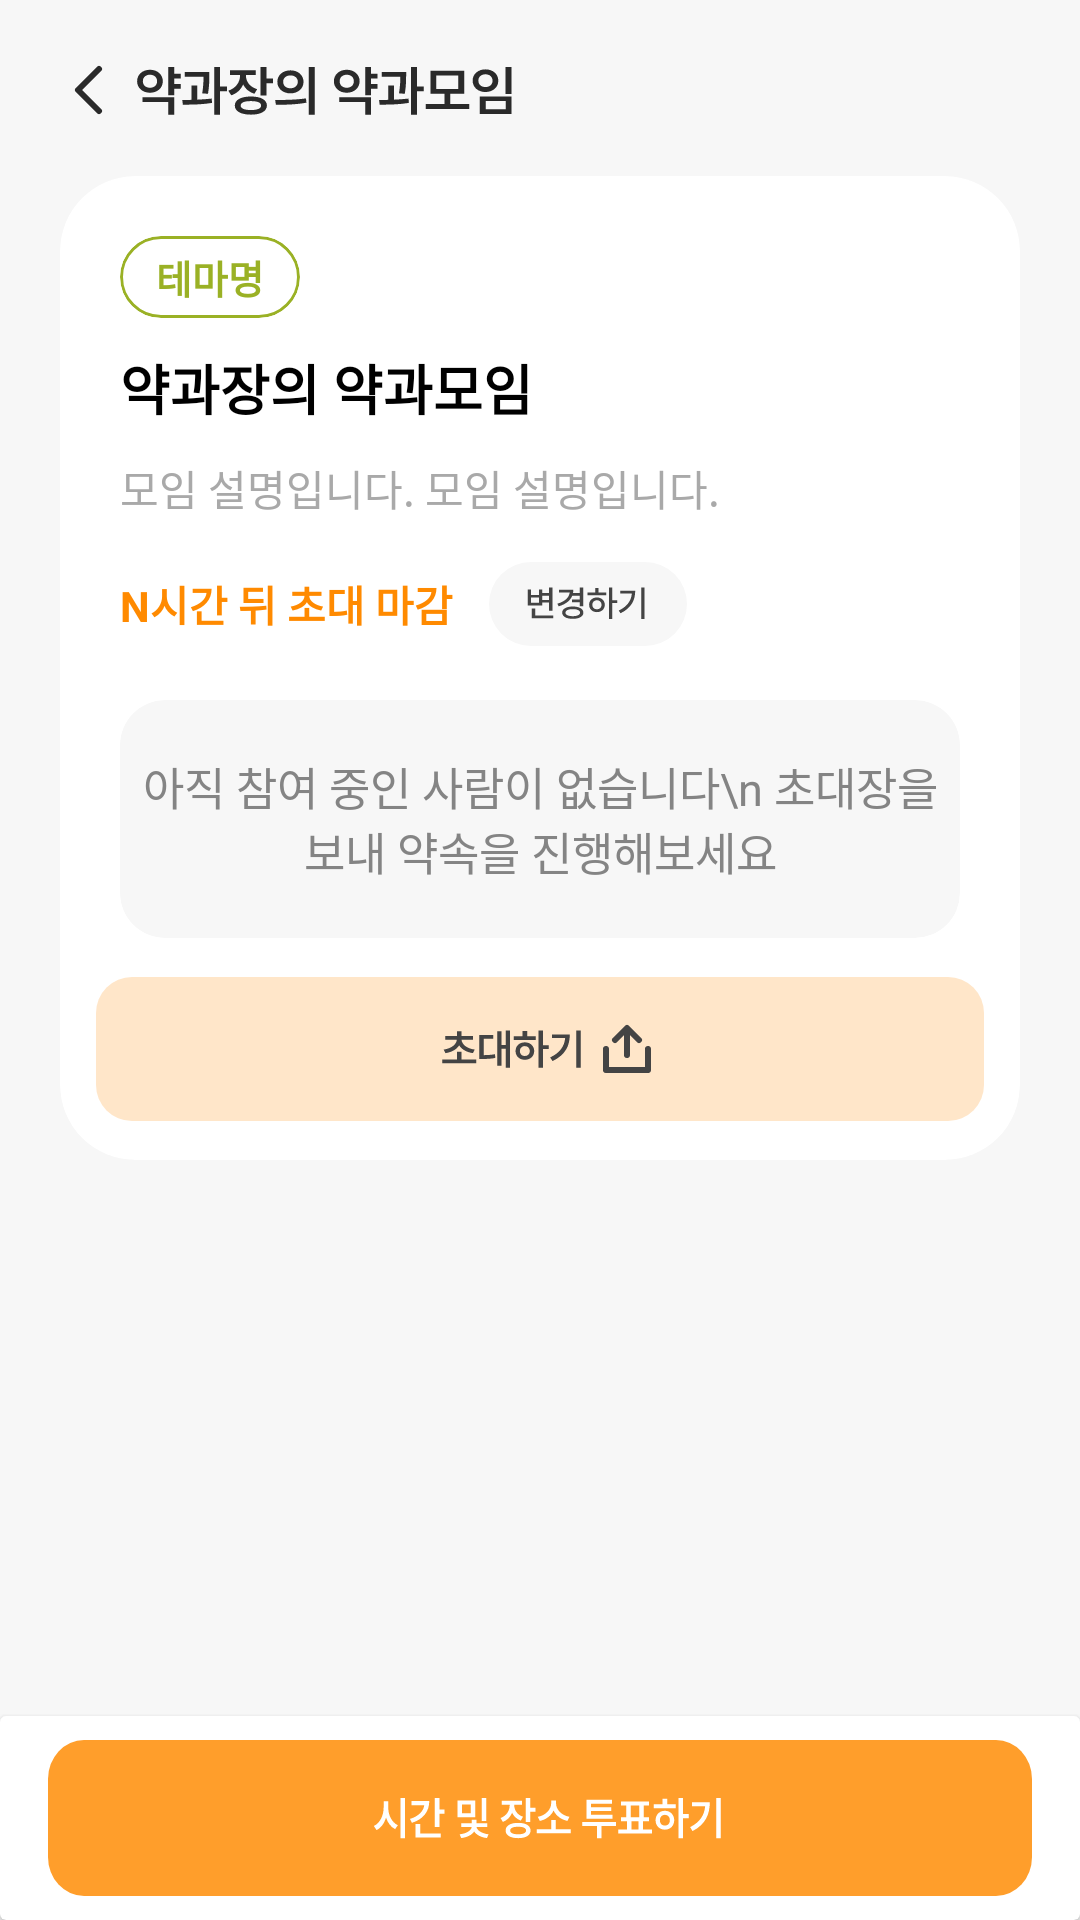

Named icons in this screenshot (1080 × 1920) and their bounding boxes, bbox(x1, y1, x2, y2):
navigate up: bbox(75, 66, 102, 114)
